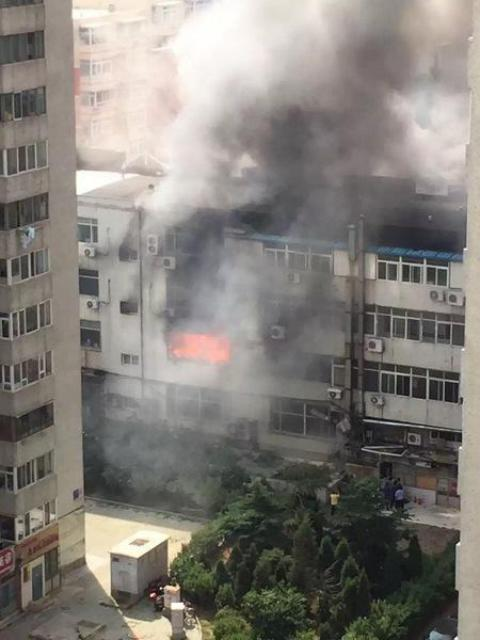fire: (170, 331, 230, 364)
